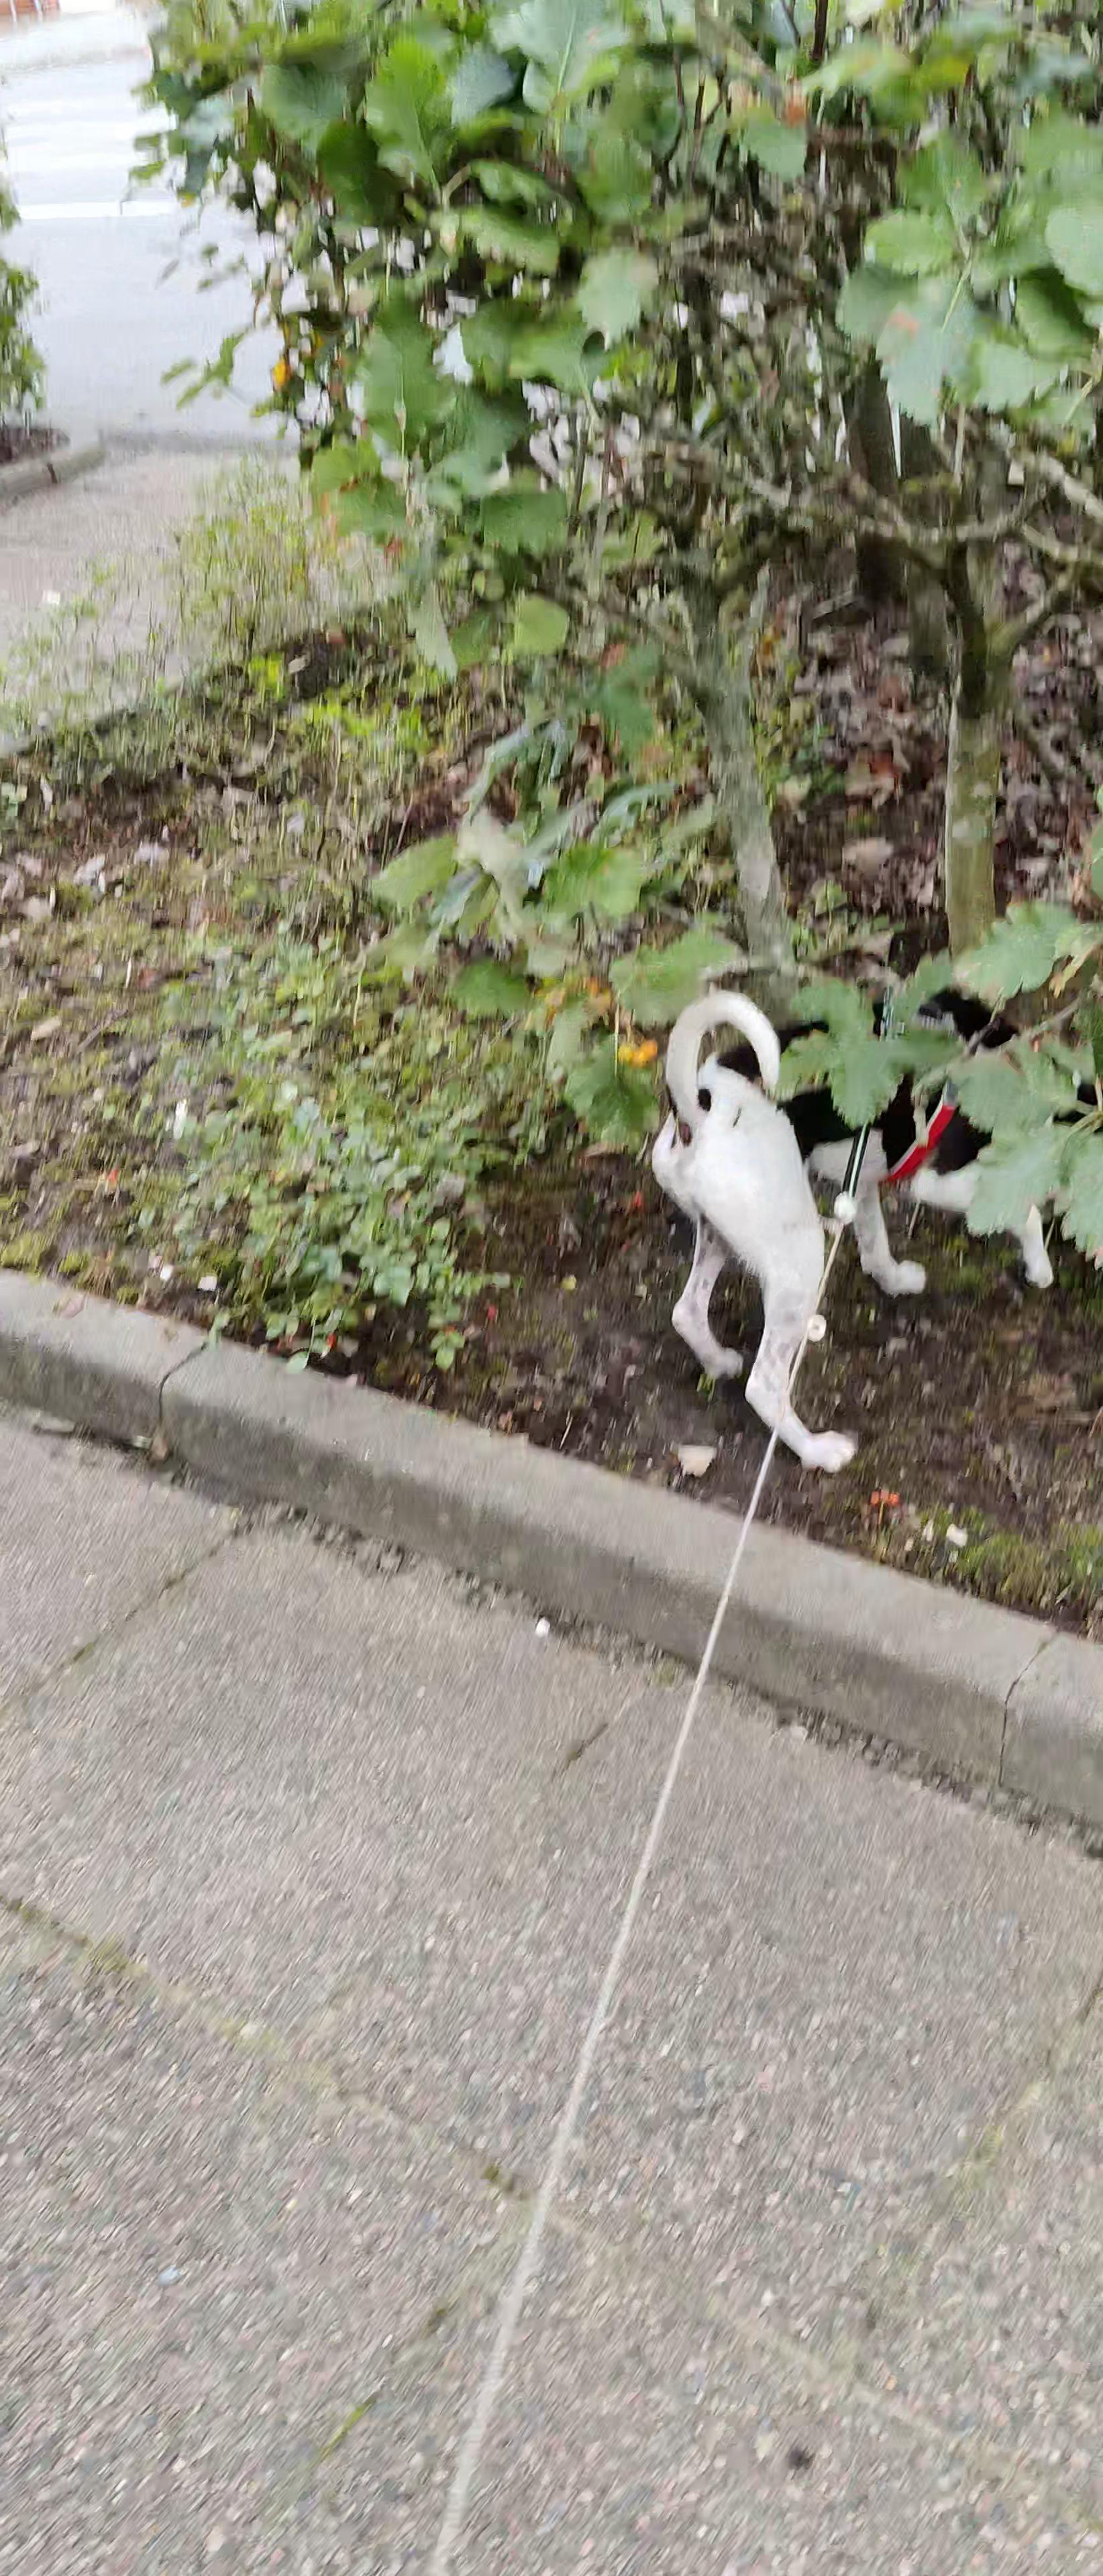Dog: (636, 977, 1103, 1475)
